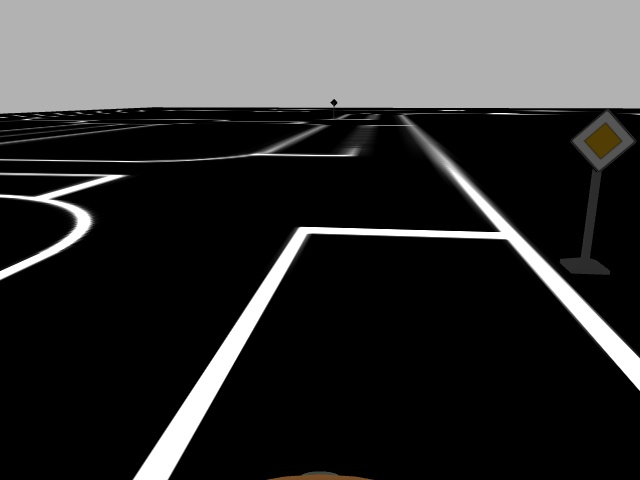priority: (569, 108, 633, 171)
